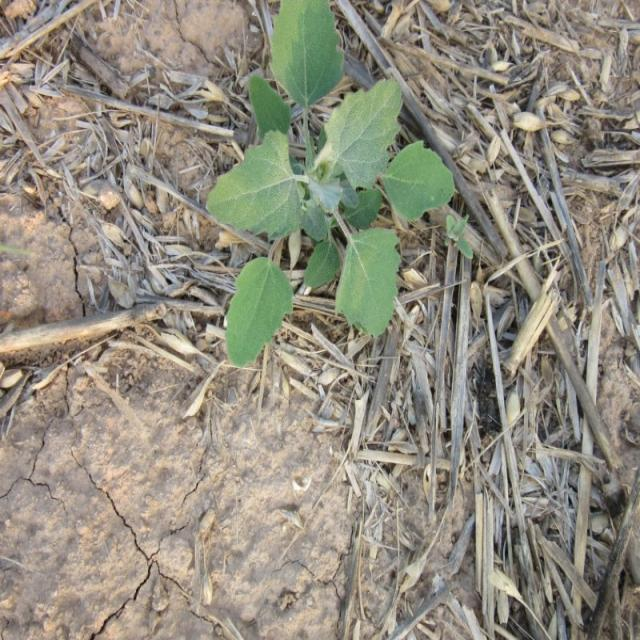ca: (210, 0, 456, 368)
